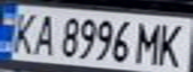6: (109, 17, 136, 64)
8: (57, 14, 81, 58)
9: (75, 15, 100, 61), (93, 16, 118, 62)
A: (30, 10, 60, 56)
K: (3, 8, 42, 55), (154, 19, 190, 69)
M: (133, 19, 166, 65)
